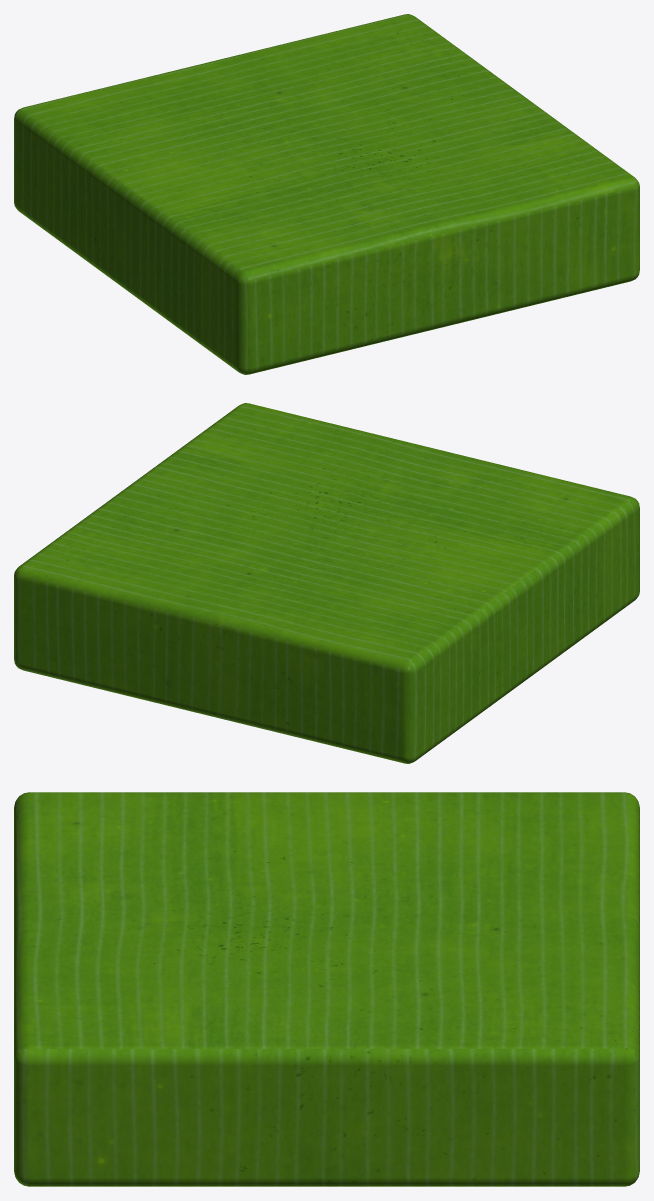
File: grasstop-finished.fbx
3 views of the same model, one above another, from view 1: azimuth 30°, elevation 25°; view 2: azimuth 150°, elevation 25°; view 3: azimuth 270°, elevation 25° (orthographic). The views are drawn at different scales.
Parts seen in each view (by area): view 1: grass1; view 2: grass1; view 3: grass1.
Boxes of the visible parts, box(x1,y1,x2,y2) form: grass1: box(14, 14, 639, 374); grass1: box(14, 403, 639, 763); grass1: box(14, 792, 639, 1186).
Size of the model in its own units: 36.46 by 9.01 by 36.46.
1 material, 1 textured.
